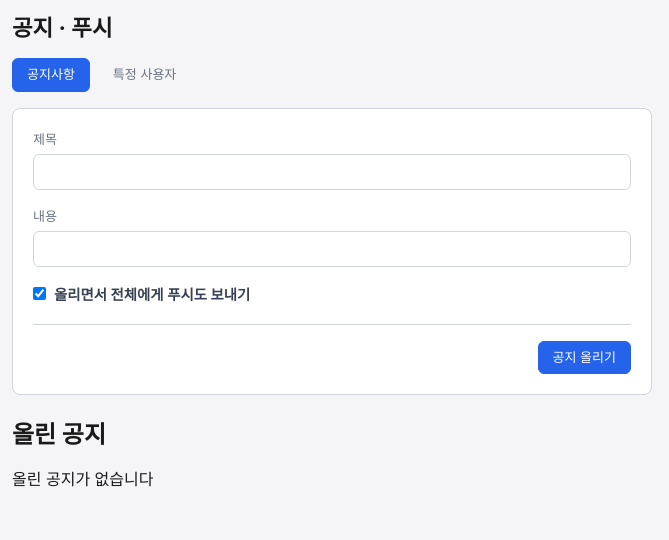
Test: PushPage › posts a notice and pushes it by default
Type "점검 안내" into the field labelled "제목" at (332, 172), box [33,154,631,190]
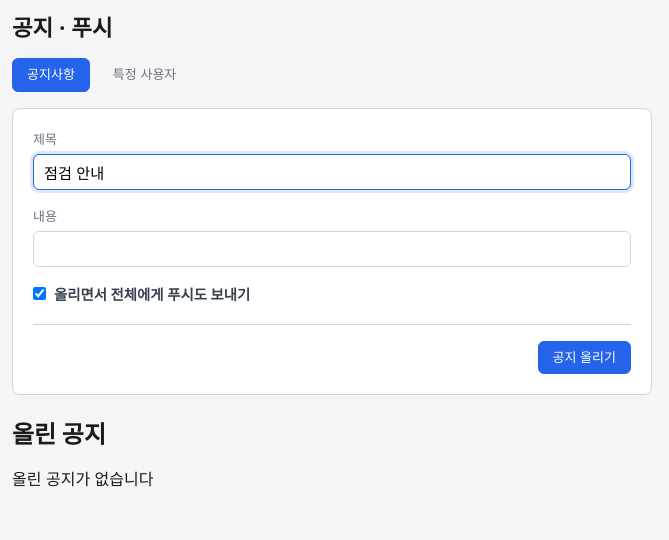
Type "오늘 밤 점검이 있습니다" into the field labelled "내용" at (332, 249), box [33,231,631,267]
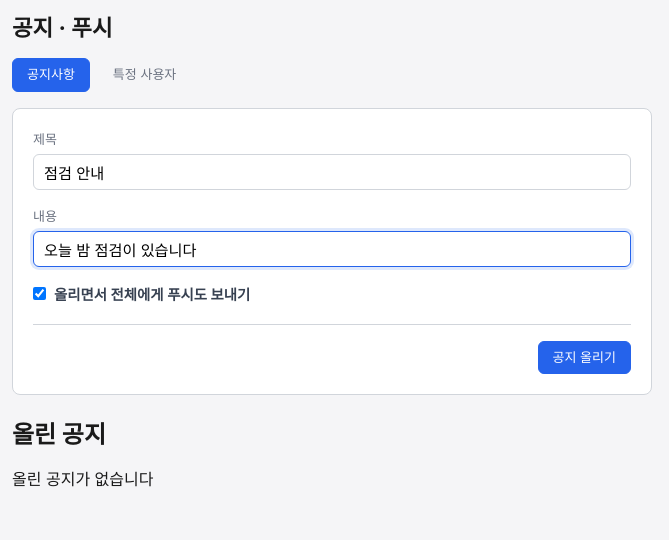
Click the button "공지 올리기" at (584, 357), box [538,341,631,374]
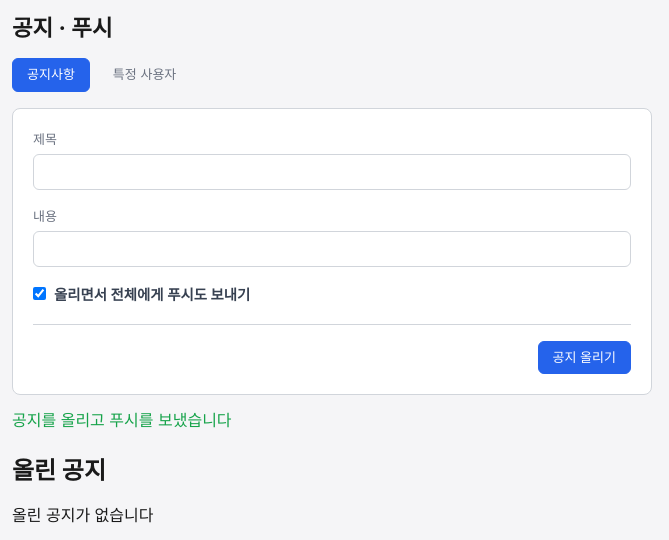
Expected: the text "공지를 올리고 푸시를 보냈습니다" is shown, [12,410,232,430]
